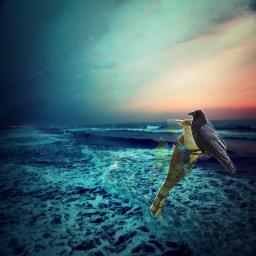Crow: (187, 109, 237, 174)
Cuckoo: (150, 119, 204, 217)
